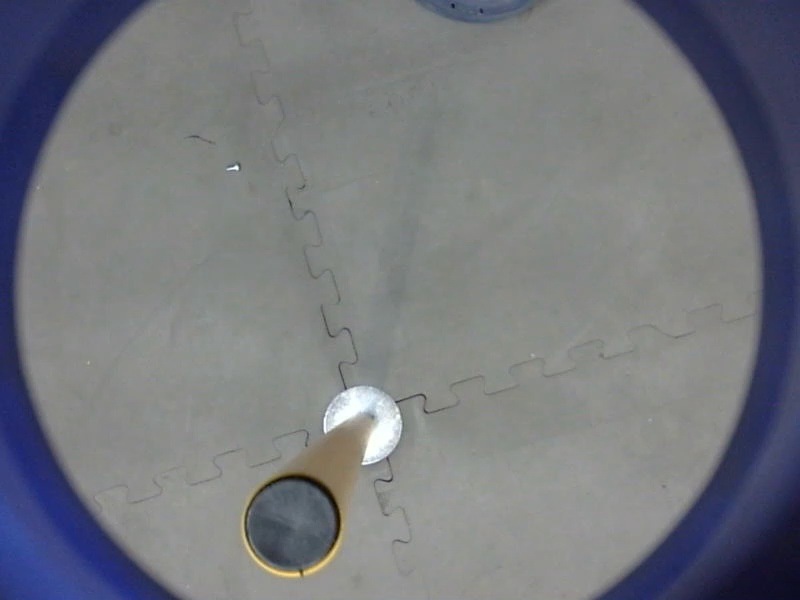tip: (236, 467, 350, 582)
